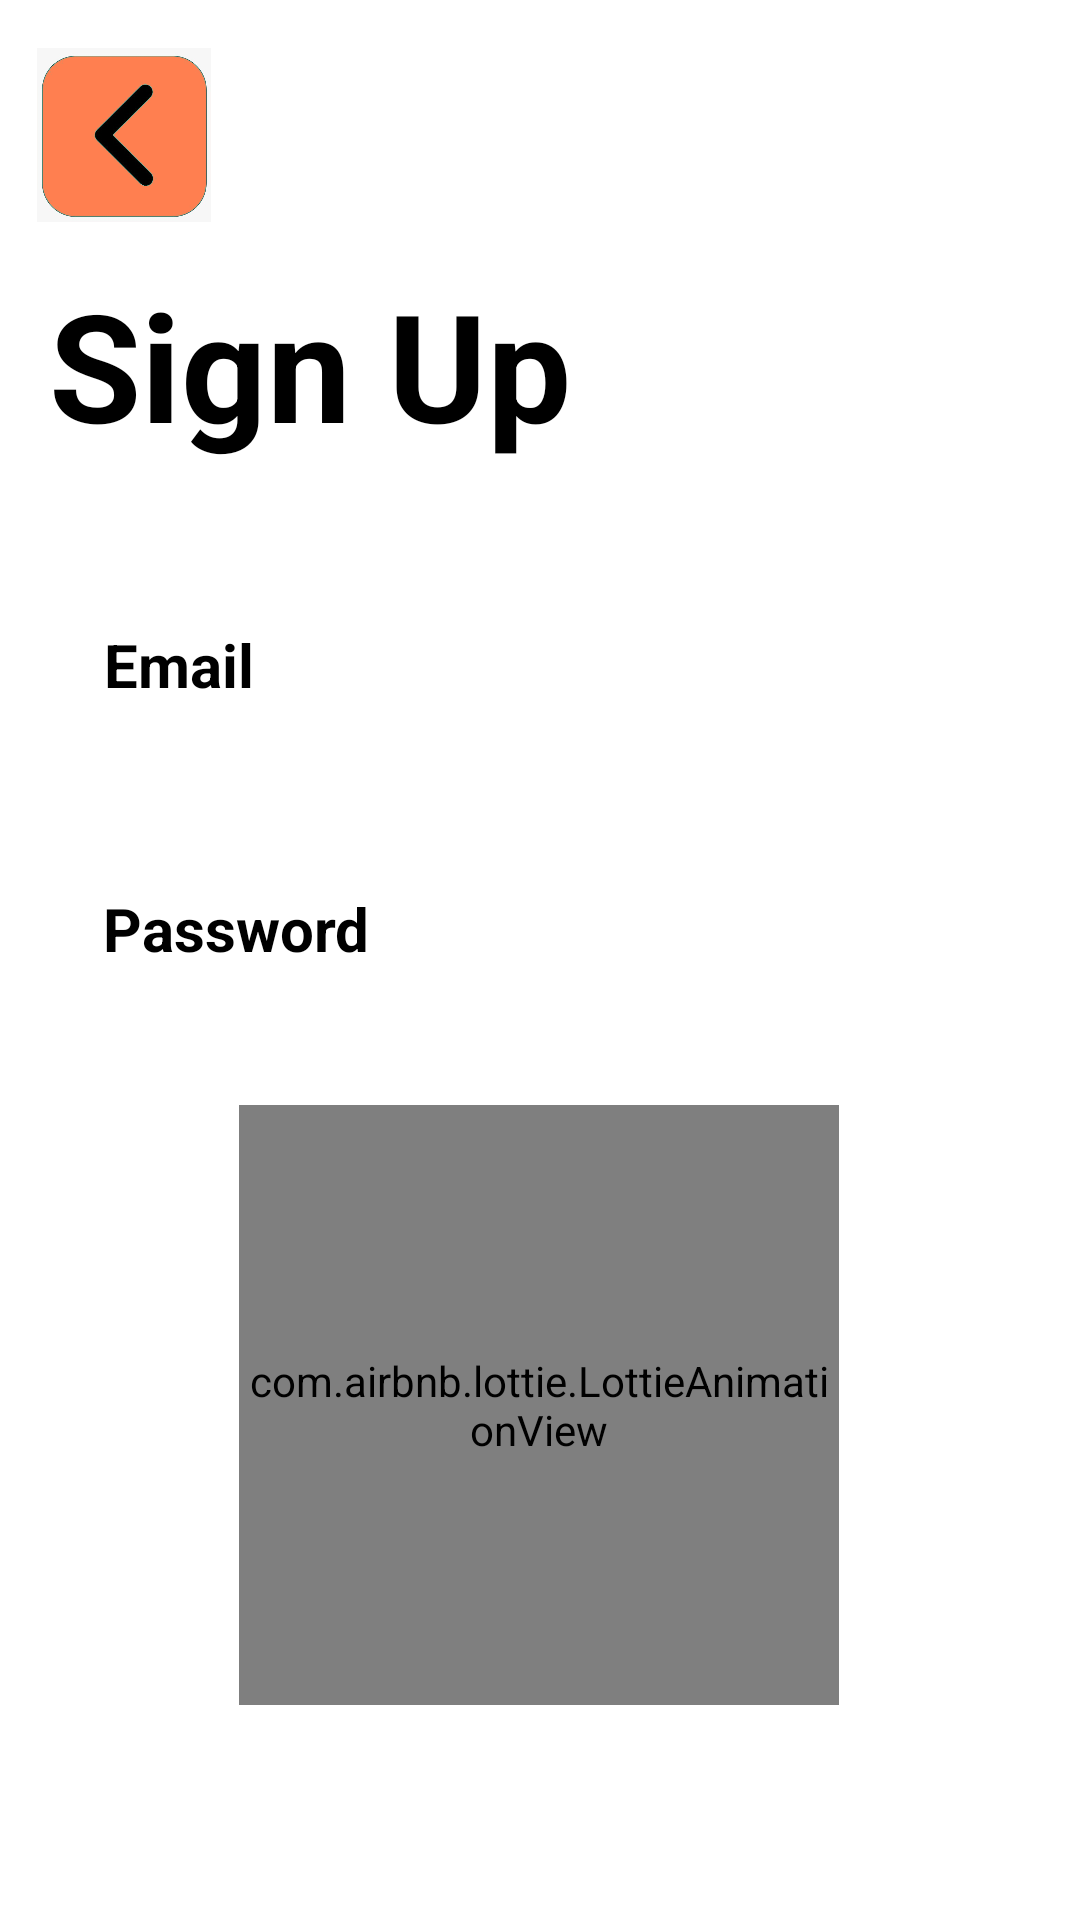

Icon bounding boxes for this 1080w x 1920h phone screenshot, format bbox=(x1, y1, x2, y2):
back: bbox=(42, 56, 207, 217)
